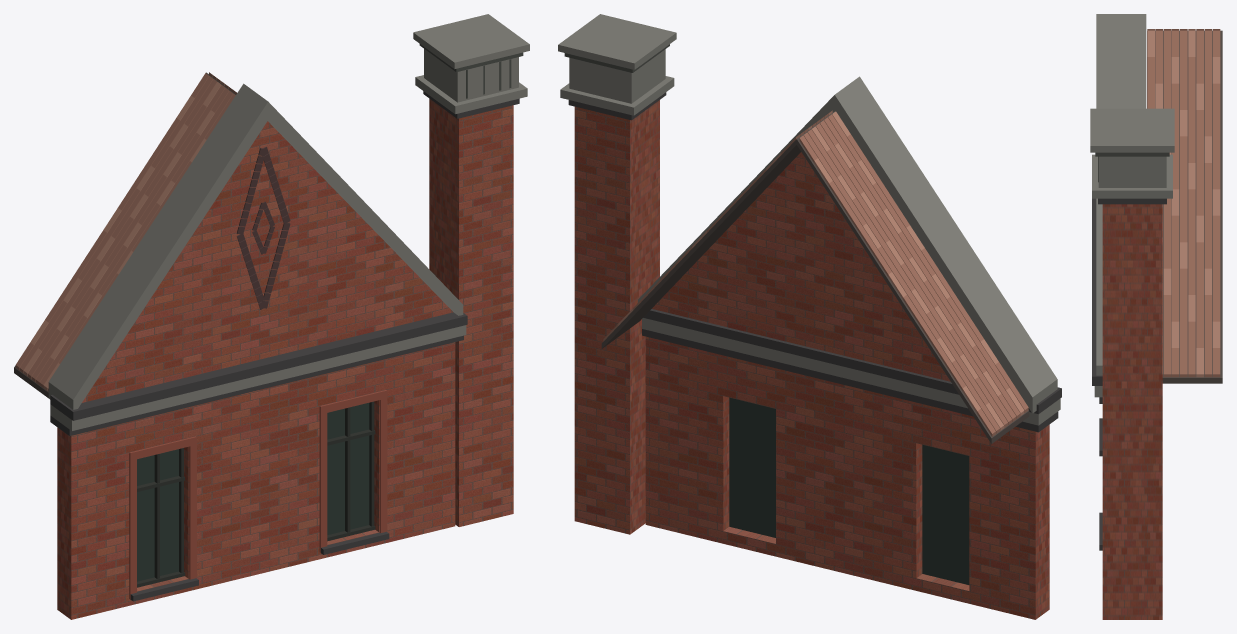
Rendered from changning-lixi-garden-diamond-gable-raw.glb.
3 views of the same model, side by side, from view 1: azimuth 30°, elevation 25°; view 2: azimuth 150°, elevation 25°; view 3: azimuth 270°, elevation 25° (orthographic).
Visible parts, largest first — view 1: 利西路花园住宅菱形砖饰山墙与方烟囱; view 2: 利西路花园住宅菱形砖饰山墙与方烟囱; view 3: 利西路花园住宅菱形砖饰山墙与方烟囱.
Boxes of the visible parts, x1,y1,x2,y2 form: 利西路花园住宅菱形砖饰山墙与方烟囱: (14, 14, 529, 619); 利西路花园住宅菱形砖饰山墙与方烟囱: (558, 14, 1061, 619); 利西路花园住宅菱形砖饰山墙与方烟囱: (1090, 14, 1222, 619).
Bounding box in the file's own units: 5.34 × 5.32 × 1.32.
11 materials, 1 textured.
